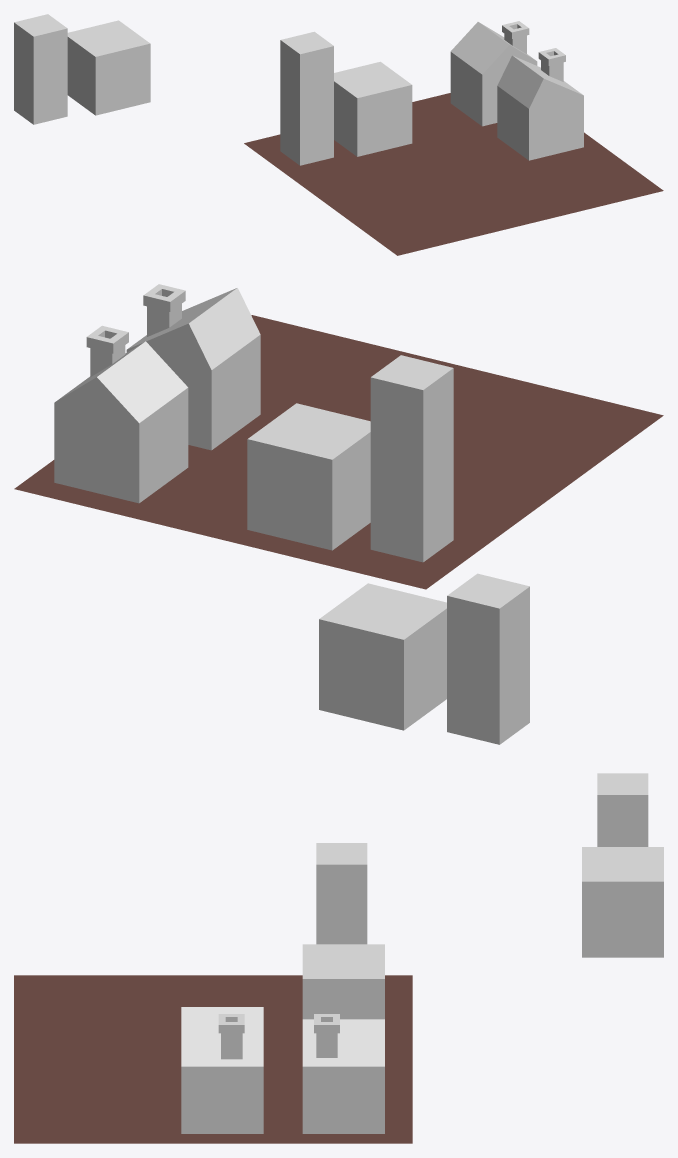
The model's file is SANTA_ENV001.fbx.
3 renders of one model, top to bottom at view 1: azimuth 30°, elevation 25°; view 2: azimuth 150°, elevation 25°; view 3: azimuth 270°, elevation 25°, orthographic. The views are drawn at different scales.
Parts seen in each view (by area): view 1: Plane, Cube.007, Cube.004, Cube.003, Cube.005, Cube.002, Cube.006, Cube.008, Cube; view 2: Plane, Cube.006, Cube.004, Cube.003, Cube.005, Cube.002, Cube.007, Cube.008, Cube; view 3: Plane, Cube.007, Cube.003, Cube.006, Cube.005, Cube.004, Cube.002, Cube.008, Cube.
Part boxes in pixels (<box>): Plane: <box>244,93,663,255</box>; Cube.007: <box>497,55,583,160</box>; Cube.004: <box>280,31,333,165</box>; Cube.003: <box>67,20,150,115</box>; Cube.005: <box>334,61,412,156</box>; Cube.002: <box>14,14,67,124</box>; Cube.006: <box>450,22,537,126</box>; Cube.008: <box>538,48,565,81</box>; Cube: <box>502,21,529,54</box>; Plane: <box>14,315,663,589</box>; Cube.006: <box>54,341,188,503</box>; Cube.004: <box>370,355,453,562</box>; Cube.003: <box>319,583,446,730</box>; Cube.005: <box>247,403,370,550</box>; Cube.002: <box>447,573,529,744</box>; Cube.007: <box>126,288,260,450</box>; Cube.008: <box>143,284,185,336</box>; Cube: <box>86,325,128,376</box>; Plane: <box>14,975,412,1143</box>; Cube.007: <box>181,1007,263,1133</box>; Cube.003: <box>582,847,663,957</box>; Cube.006: <box>302,1019,384,1133</box>; Cube.005: <box>302,944,384,1019</box>; Cube.004: <box>316,843,367,944</box>; Cube.002: <box>597,773,648,846</box>; Cube.008: <box>218,1014,244,1059</box>; Cube: <box>314,1014,339,1057</box>.
Size of the model in its own units: 2381 by 626 by 2554.
